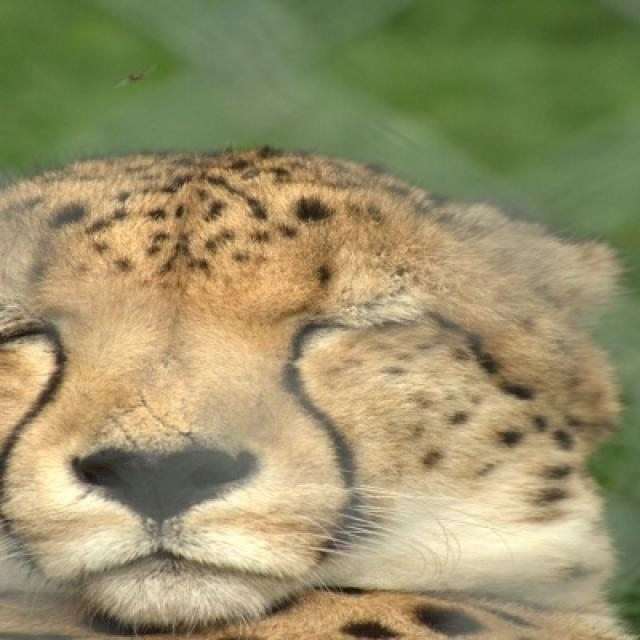Cheetah: (0, 150, 626, 638)
